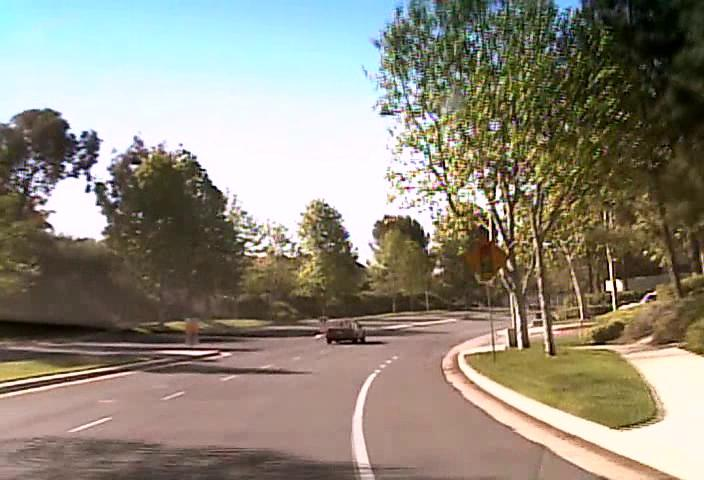signalAhead: (461, 235, 509, 283)
